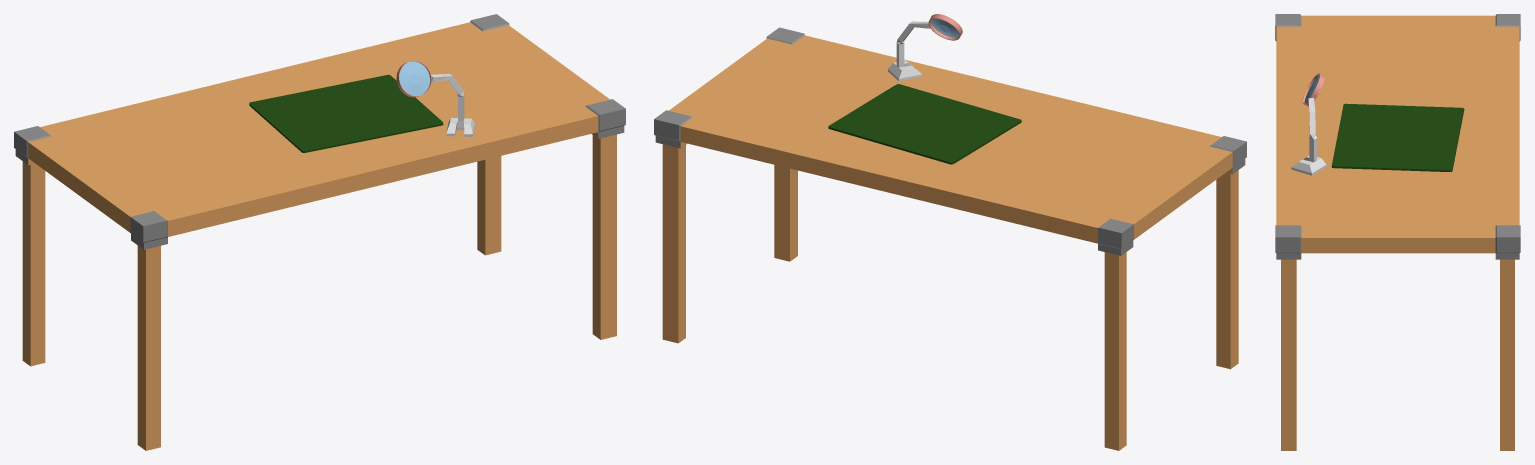
File: worktable.dae
The picture shows the model from 3 angles, left to right: view 1: azimuth 30°, elevation 25°; view 2: azimuth 150°, elevation 25°; view 3: azimuth 270°, elevation 25°; orthographic projection. The views are drawn at different scales.
Visible parts, largest first — view 1: Cube.001; view 2: Cube.001; view 3: Cube.001.
Boxes of the visible parts, left/top/right/bottom form: Cube.001: left=14, top=14, right=625, bottom=450; Cube.001: left=654, top=14, right=1246, bottom=450; Cube.001: left=1275, top=14, right=1520, bottom=450.
Size of what is drawn, in the model's own units: 3.79 by 1.76 by 2.29.
